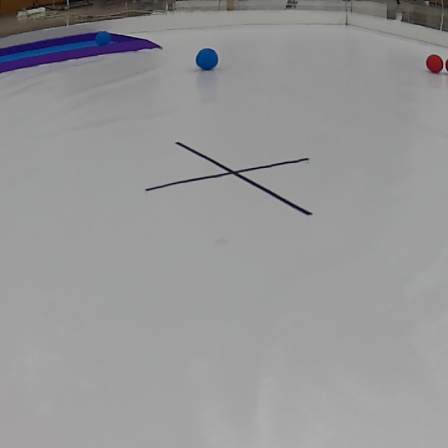blue: (193, 48, 221, 72), (95, 31, 114, 45)
blue_aim: (16, 29, 163, 70)
red: (426, 52, 444, 75)
